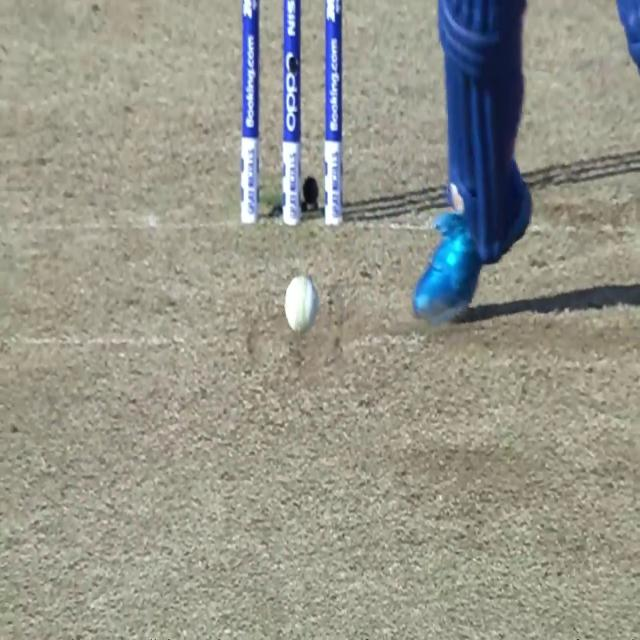ball: (286, 277, 316, 329)
